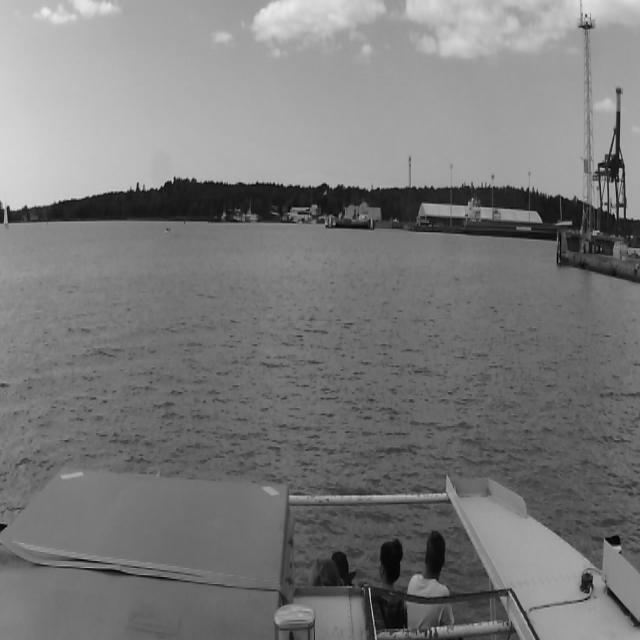ship: (2, 206, 10, 230), (164, 226, 172, 234), (165, 228, 171, 234)
